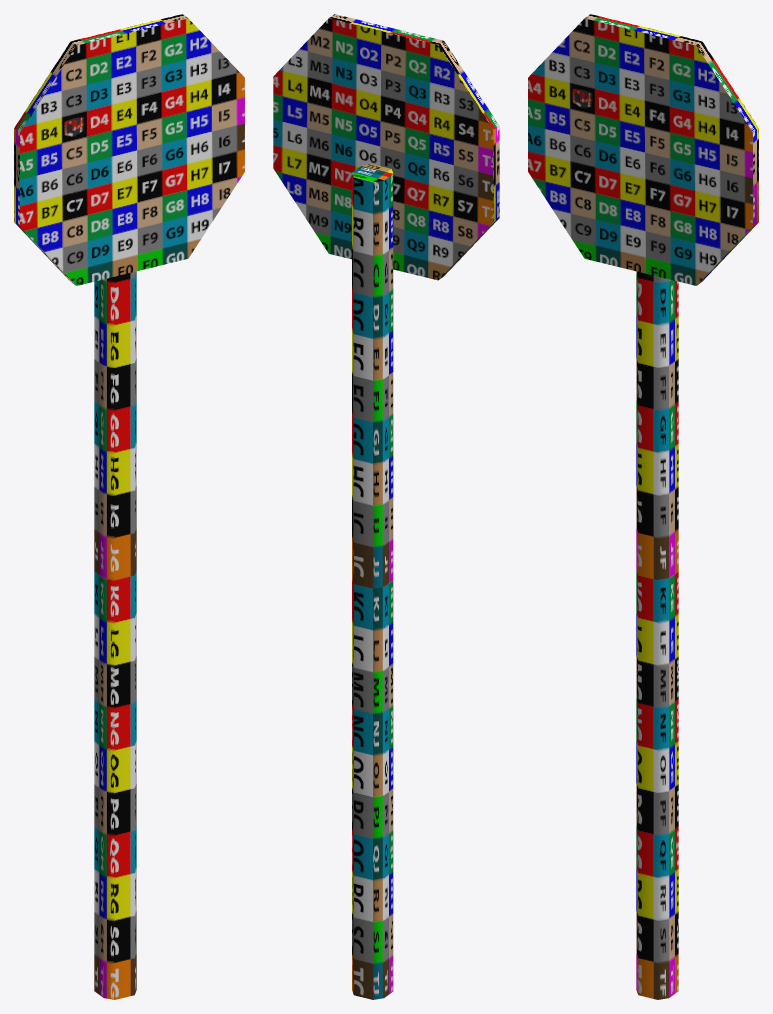
The model's file is stop sign.FBX.
3 renders of one model, left to right at view 1: azimuth 30°, elevation 25°; view 2: azimuth 150°, elevation 25°; view 3: azimuth 330°, elevation 25°, orthographic. The views are drawn at different scales.
Parts seen in each view (by area): view 1: stop sign; view 2: stop sign; view 3: stop sign.
Part boxes in pixels (x1,y1,x2,y2): stop sign: (14, 14, 244, 999); stop sign: (273, 14, 499, 999); stop sign: (528, 14, 758, 999).
Size of the model in its own units: 29 by 120 by 5.91.
1 material, 1 textured.
